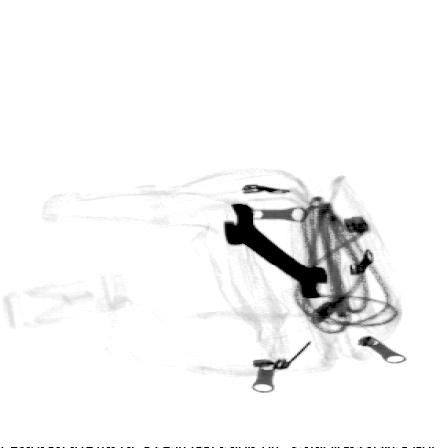Wrench: (222, 201, 330, 300)
